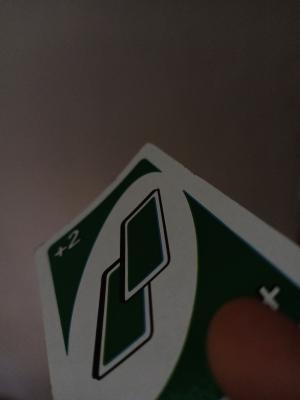green: (71, 219, 247, 377)
